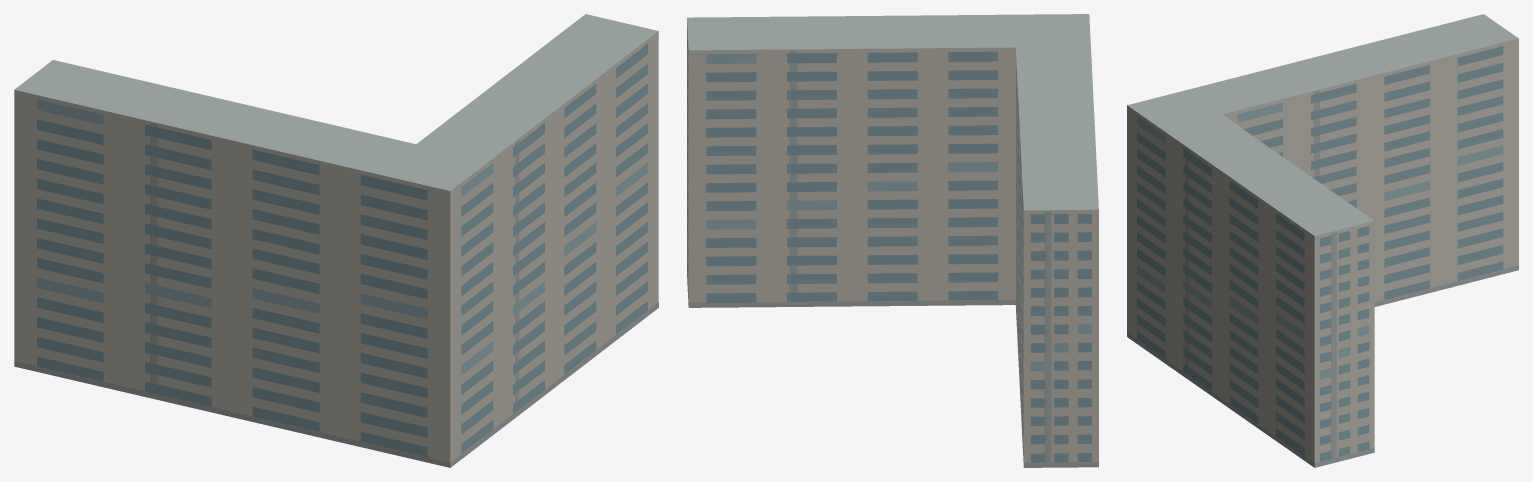
File: residential-4f37abda-13d1-4630-8866-b87ff98064b1.glb
3 views of the same model, side by side, from view 1: azimuth 30°, elevation 25°; view 2: azimuth 150°, elevation 25°; view 3: azimuth 270°, elevation 25° (orthographic). The views are drawn at different scales.
Visible parts, largest first — view 1: residential-4f37abda-13d1-4630-8866-b87ff98064b1.tmp; view 2: residential-4f37abda-13d1-4630-8866-b87ff98064b1.tmp; view 3: residential-4f37abda-13d1-4630-8866-b87ff98064b1.tmp.
Part boxes in pixels (x1,y1,x2,y2): residential-4f37abda-13d1-4630-8866-b87ff98064b1.tmp: (14, 14, 658, 467); residential-4f37abda-13d1-4630-8866-b87ff98064b1.tmp: (687, 14, 1098, 467); residential-4f37abda-13d1-4630-8866-b87ff98064b1.tmp: (1127, 14, 1518, 467).
Size of the model in its own units: 87.77 by 42.7 by 65.41.
